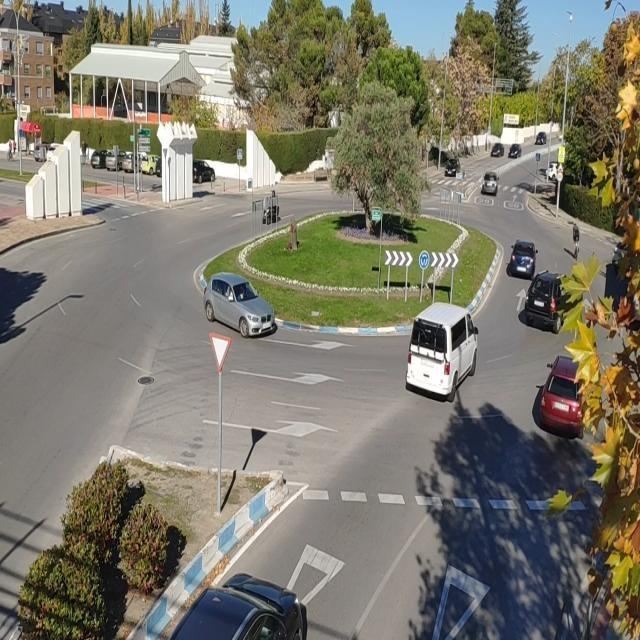Car: (183, 271, 284, 347), (524, 347, 602, 439), (519, 270, 584, 342), (504, 236, 544, 281), (443, 153, 468, 181), (545, 156, 570, 183), (482, 168, 504, 196), (534, 124, 553, 147), (507, 137, 526, 158), (490, 136, 508, 158)
Cycle: (564, 219, 582, 263)
Van: (387, 293, 484, 413)
